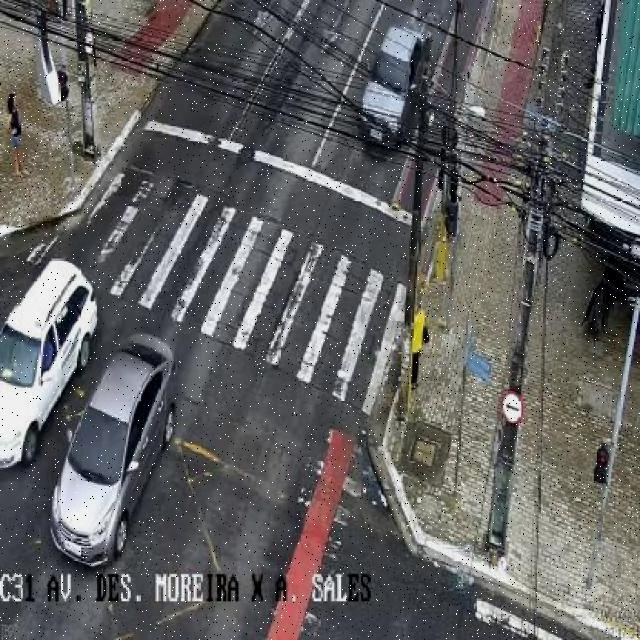Car: (47, 331, 183, 568), (0, 258, 98, 472), (358, 24, 430, 146)
